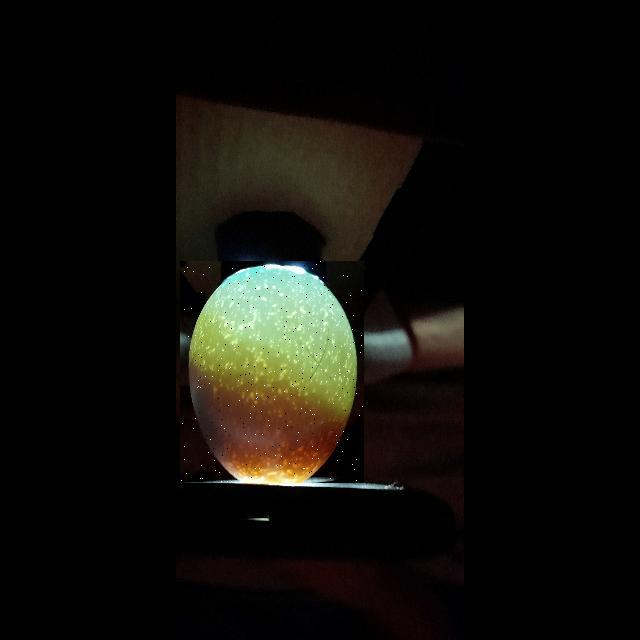Infertile: (180, 261, 364, 483)
